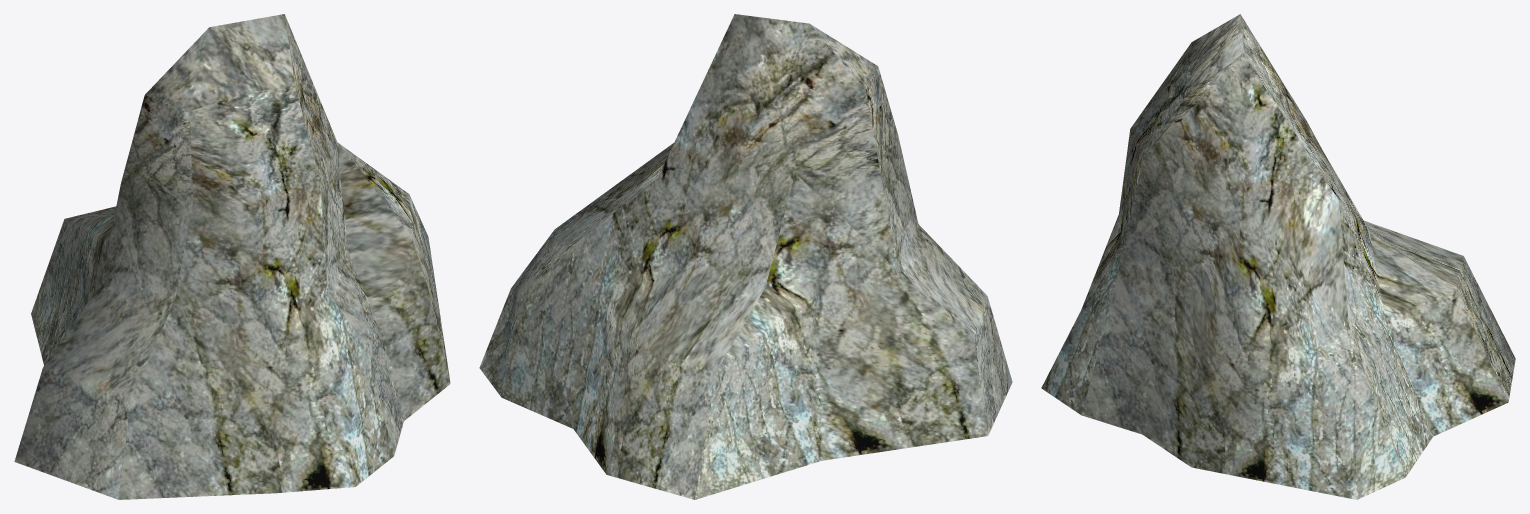
The model's file is general_obj_bigstone06.fbx.
The picture shows the model from 3 angles, left to right: view 1: azimuth 30°, elevation 25°; view 2: azimuth 150°, elevation 25°; view 3: azimuth 270°, elevation 25°; orthographic projection. The views are drawn at different scales.
Visible parts, largest first — view 1: Sphere01fs; view 2: Sphere01fs; view 3: Sphere01fs.
Boxes of the visible parts, <box> form: Sphere01fs: <box>14,14,450,499</box>; Sphere01fs: <box>479,14,1012,499</box>; Sphere01fs: <box>1041,14,1515,499</box>.
Size of the model in its own units: 19.95 by 15.49 by 18.64.
